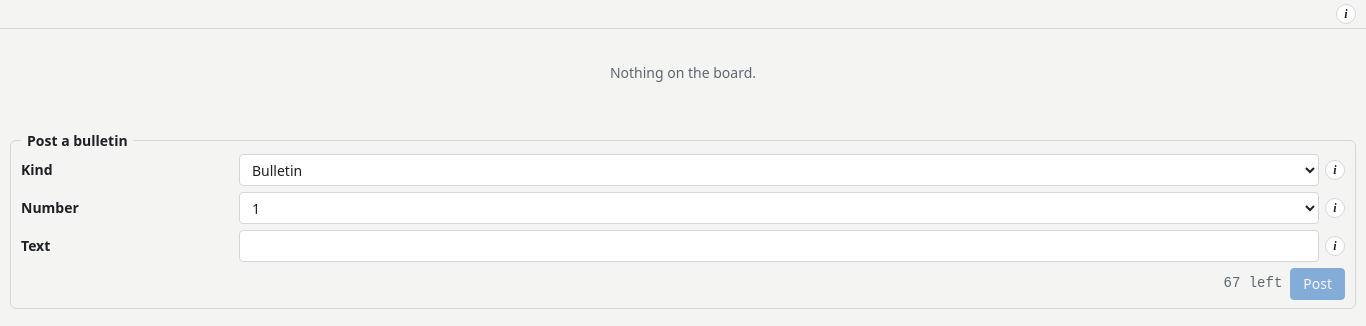
Test case: BulletinsPane › has an (i) at the top that says what a bulletin is, with a picture
This screenshot has width=1366, height=326.
Click the 1st button with class "info-toggle" at (1346, 14), box left=1336, top=4, right=1356, bottom=24
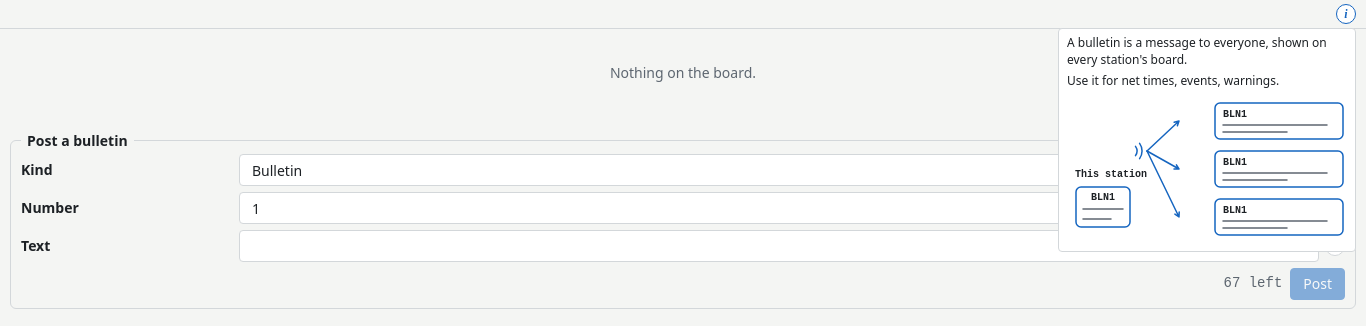
Now the element with class "info-text" shows "A bulletin is a message to everyone, shown on every station's board.", box left=1067, top=34, right=1327, bottom=68
Now the element with class "info-text" shows "net times, events, warnings", box left=1067, top=72, right=1279, bottom=89
